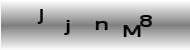8: (139, 14, 153, 27)
J: (35, 8, 44, 25)
M: (122, 24, 140, 37)
j: (62, 19, 70, 36)
n: (94, 20, 107, 31)
